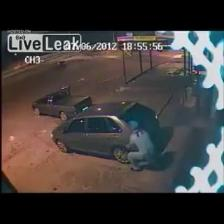person: (126, 121, 154, 171)
